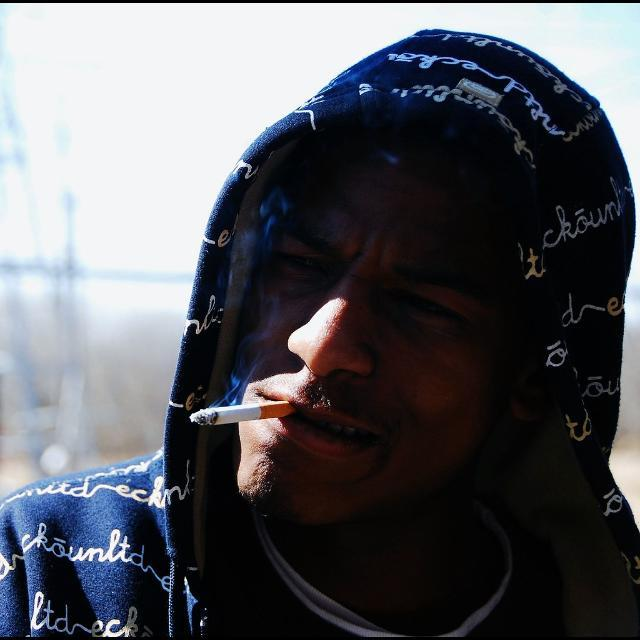rokok: (178, 388, 298, 429)
